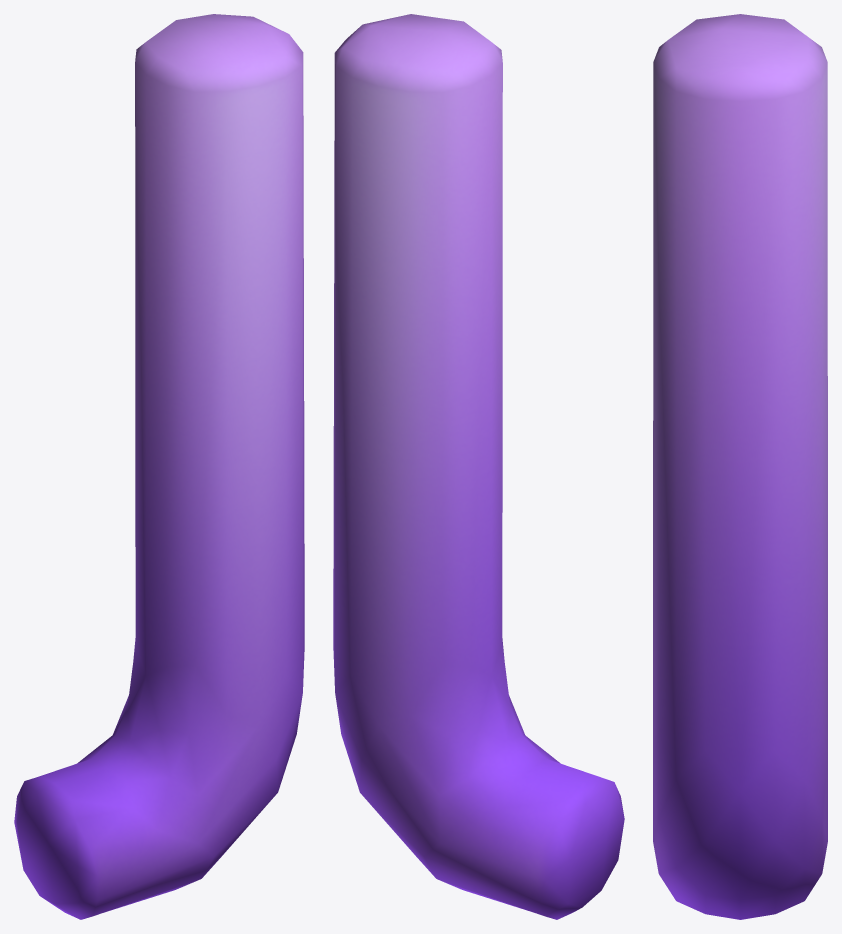
3 views of the same model, side by side, from view 1: azimuth 30°, elevation 25°; view 2: azimuth 150°, elevation 25°; view 3: azimuth 270°, elevation 25° (orthographic). The views are drawn at different scales.
Parts seen in each view (by area): view 1: Processed_Mesh0_Geometry; view 2: Processed_Mesh0_Geometry; view 3: Processed_Mesh0_Geometry.
Boxes of the visible parts, x1,y1,x2,y2 form: Processed_Mesh0_Geometry: [14, 14, 304, 919]; Processed_Mesh0_Geometry: [333, 14, 624, 919]; Processed_Mesh0_Geometry: [653, 14, 827, 919].
Size of what is drawn, in the model's own units: 0.0342 by 0.108 by 0.0186.
Materials: 1 (1 with a texture image).
